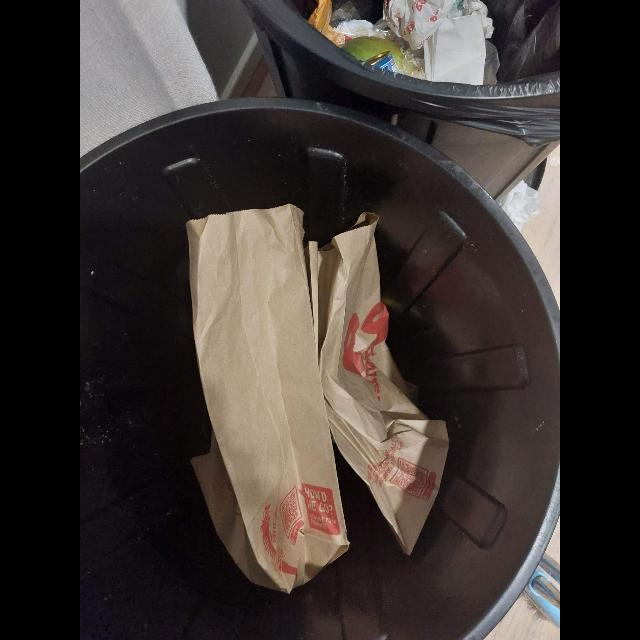biowaste: (342, 37, 405, 74)
metal: (368, 51, 398, 73)
paper: (185, 206, 350, 596), (308, 213, 450, 558), (423, 9, 494, 87), (387, 0, 495, 51)
